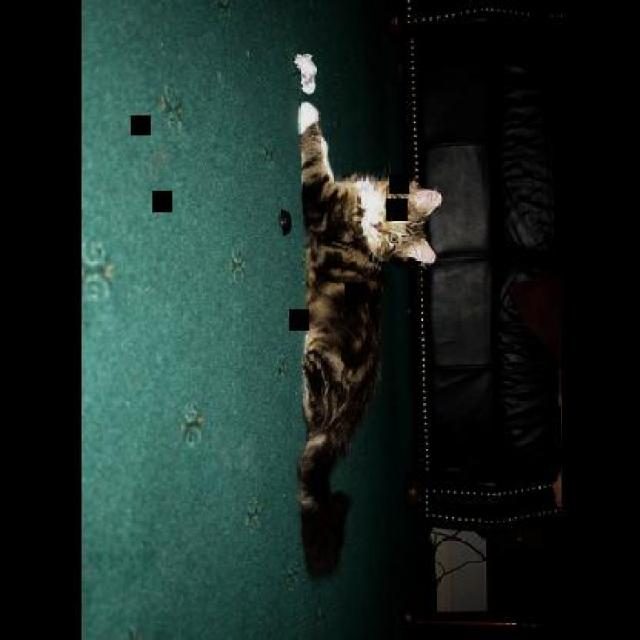unauthorized: (294, 98, 441, 577)
